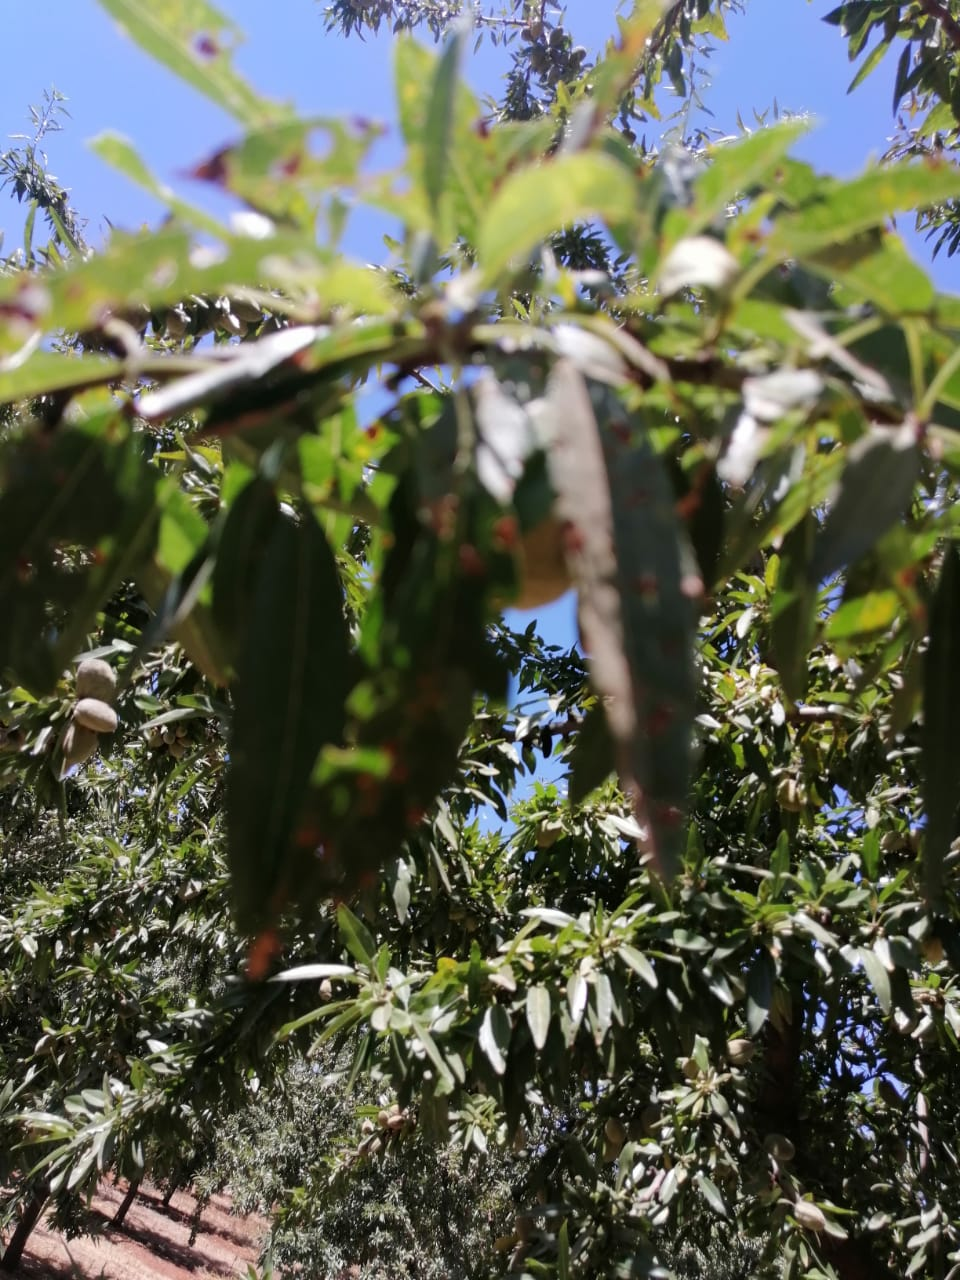coryneum: (538, 358, 711, 895)
